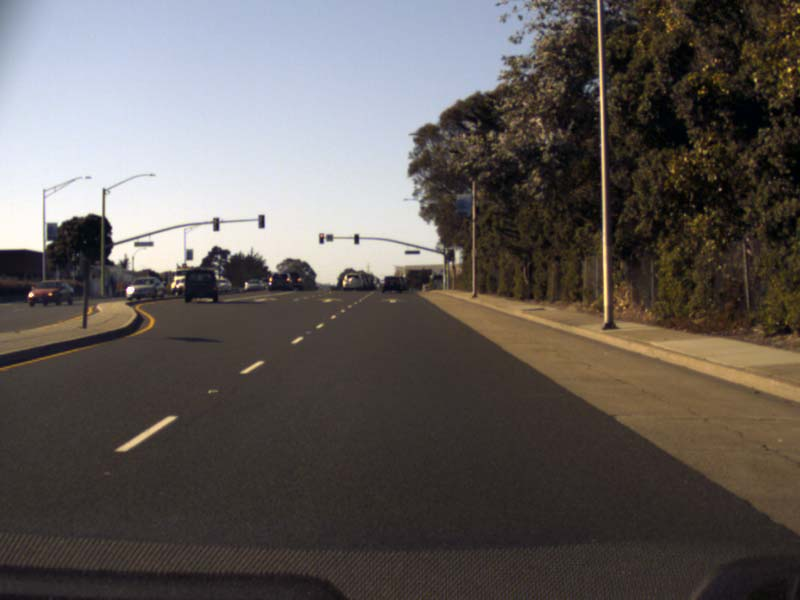Red: (318, 233, 323, 243)
